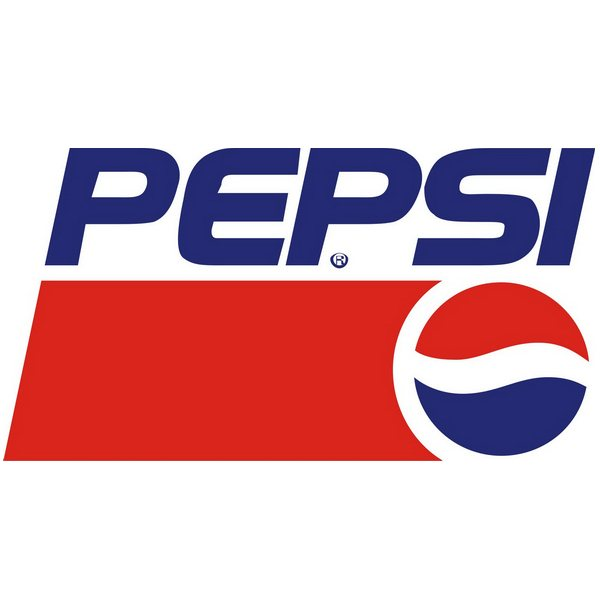pepsi: (412, 277, 586, 457), (421, 277, 586, 457)
